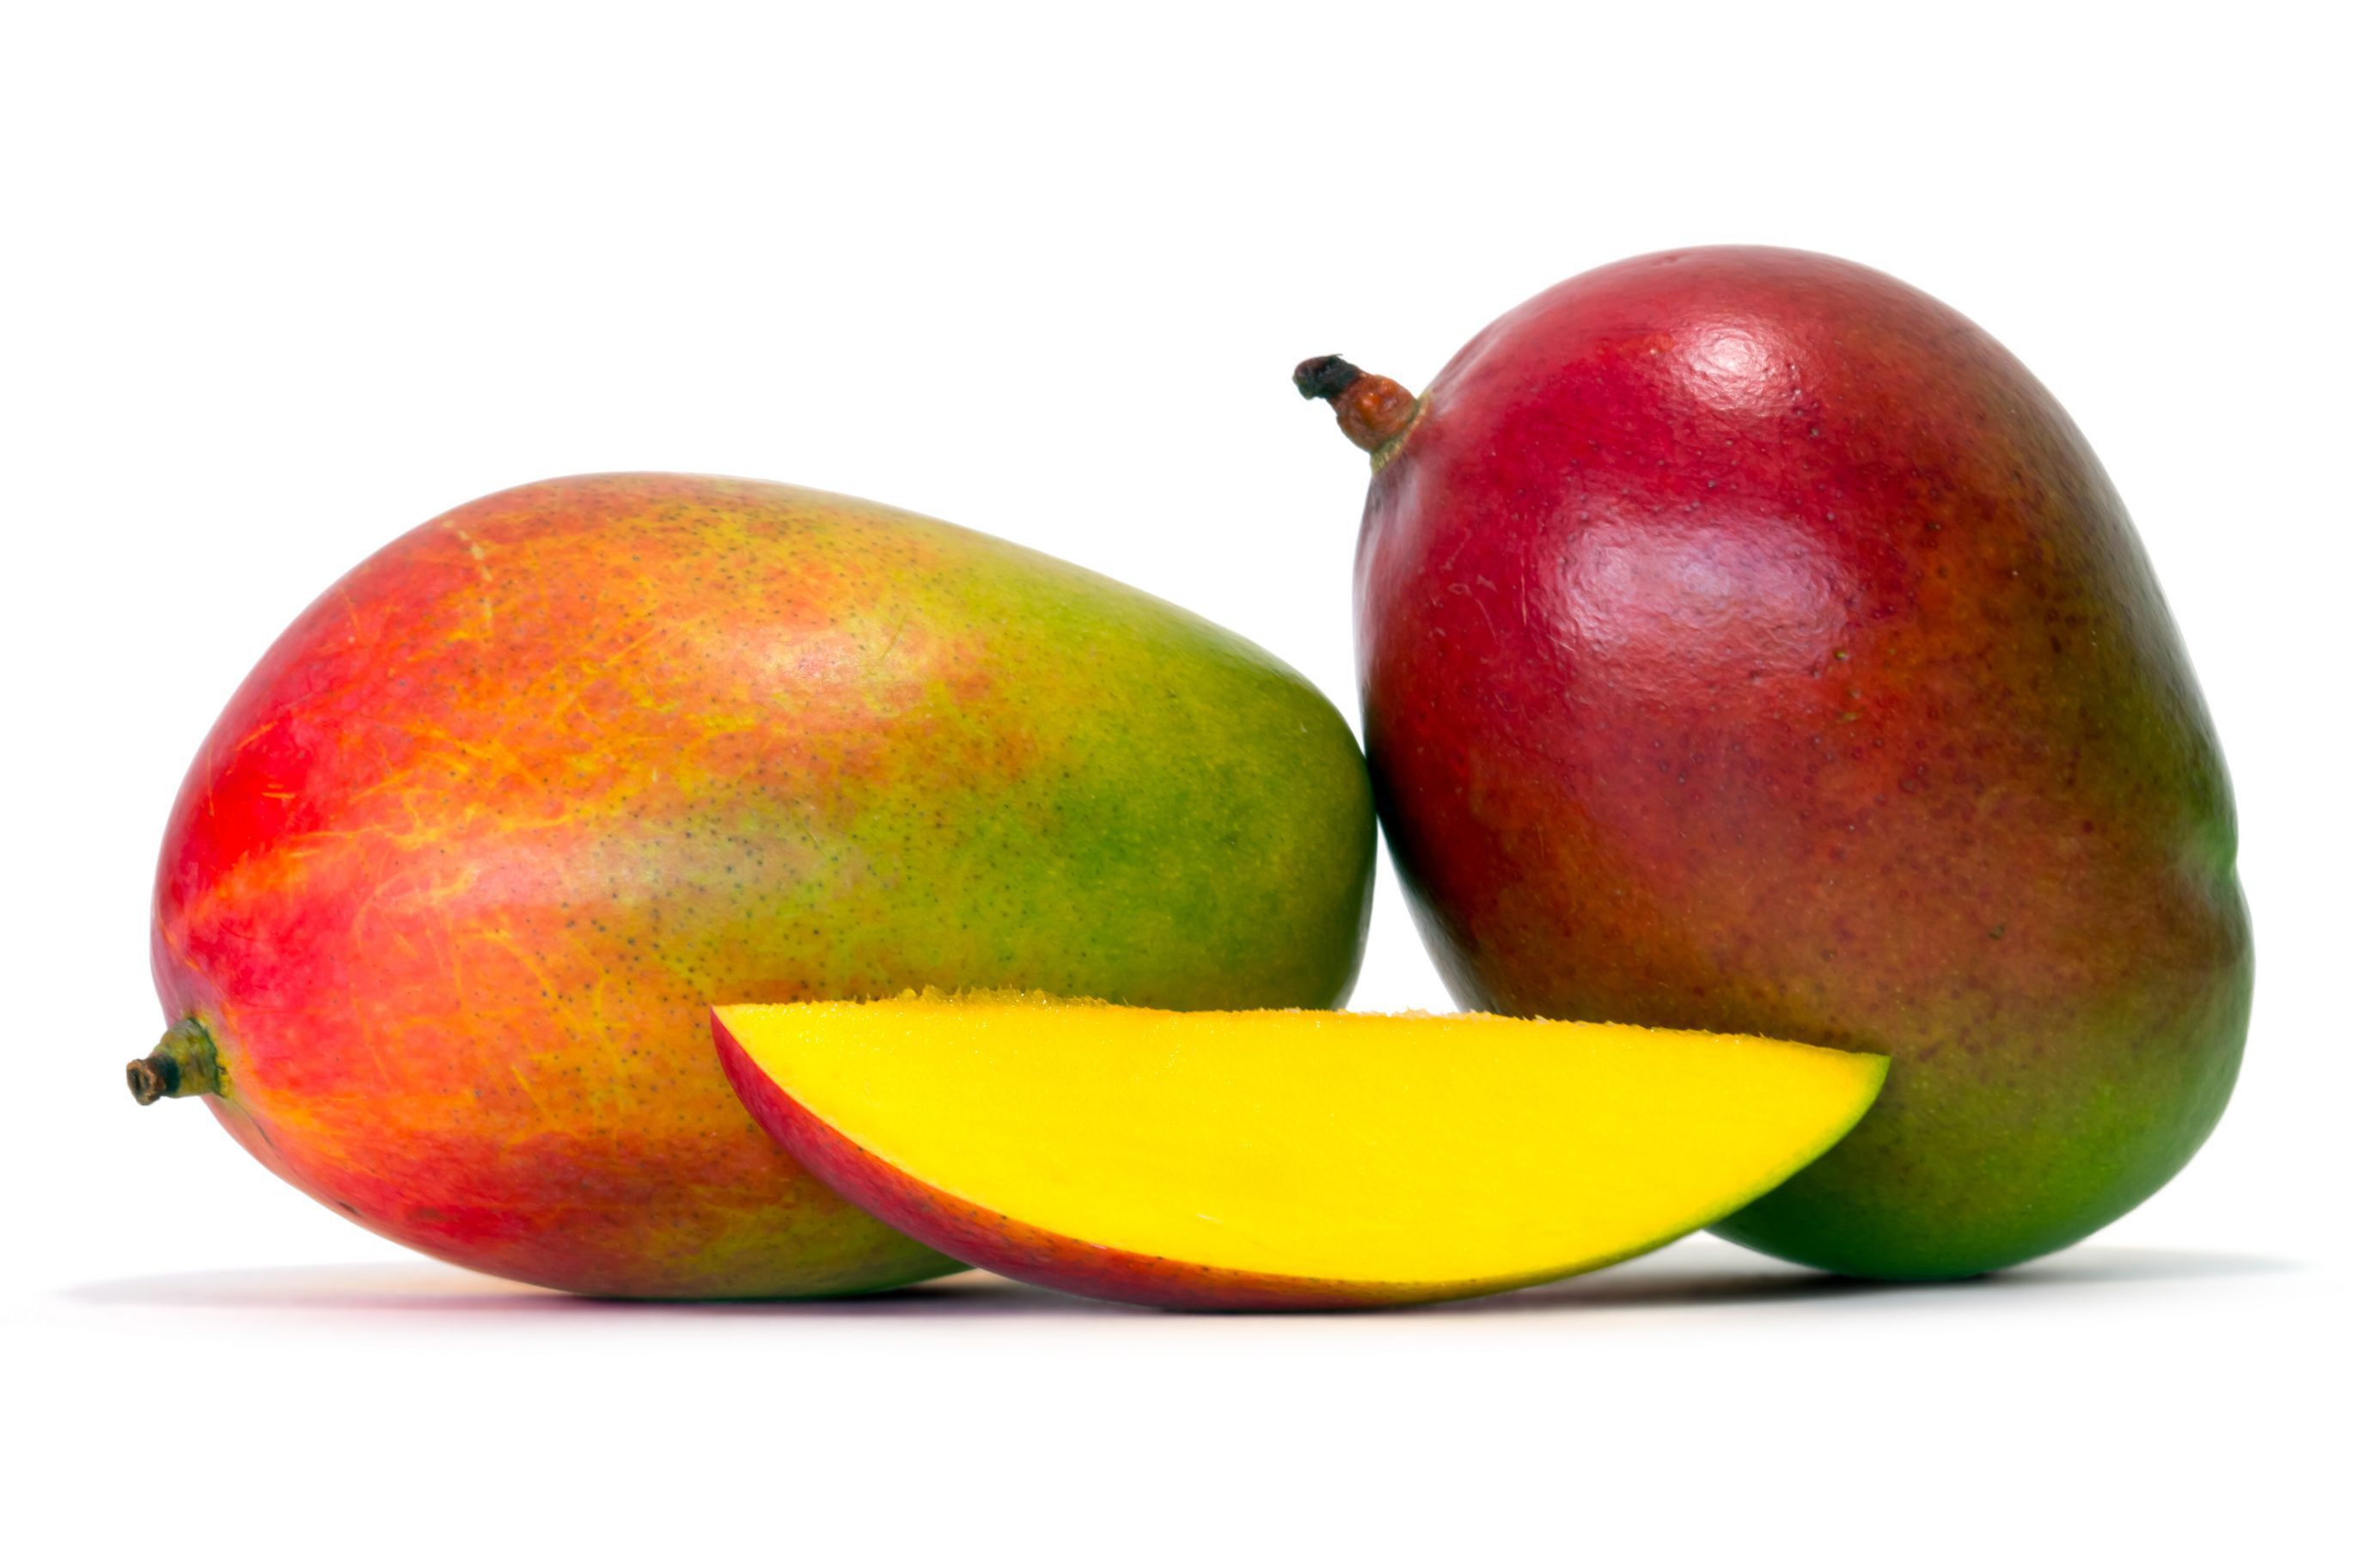Mango: (137, 445, 1376, 1335), (1275, 220, 2290, 1307)
